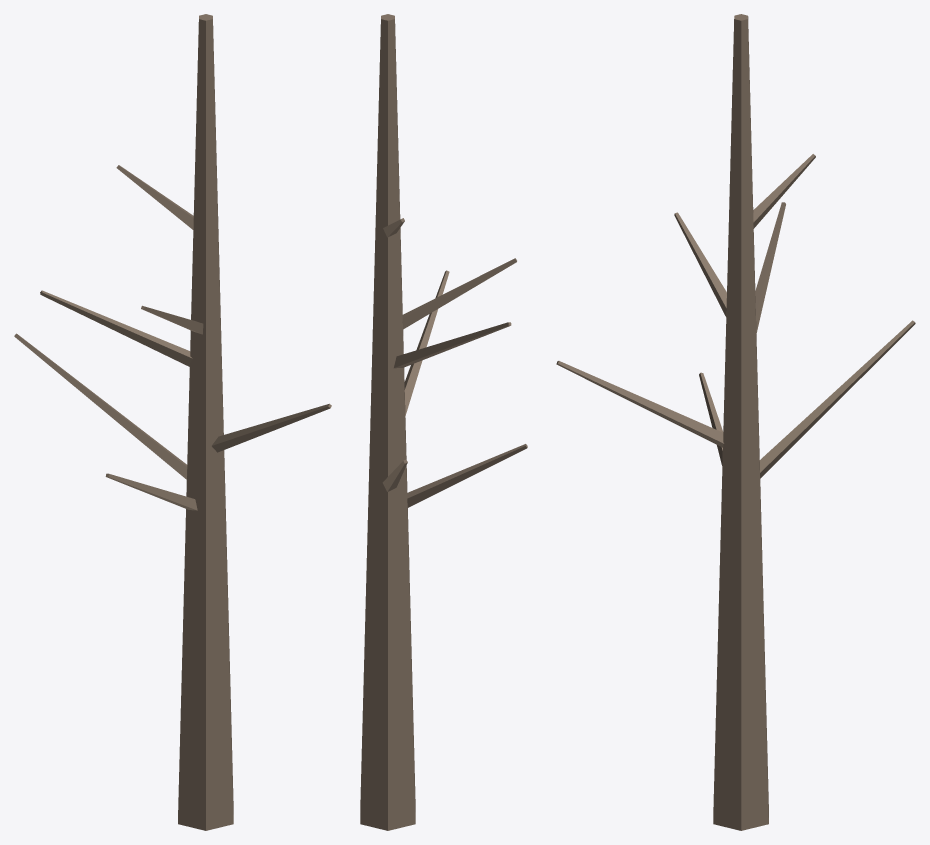
The model's file is node_tree_tundra_2.glb.
3 views of the same model, side by side, from view 1: azimuth 30°, elevation 25°; view 2: azimuth 150°, elevation 25°; view 3: azimuth 270°, elevation 25° (orthographic).
Parts seen in each view (by area): view 1: node_tree_tundra_2; view 2: node_tree_tundra_2; view 3: node_tree_tundra_2.
Boxes of the visible parts, box(x1,y1,x2,y2) form: node_tree_tundra_2: box(14, 14, 331, 830); node_tree_tundra_2: box(360, 14, 527, 830); node_tree_tundra_2: box(556, 14, 915, 830).
Size of the model in its own units: 1.29 by 5.5 by 2.24.
